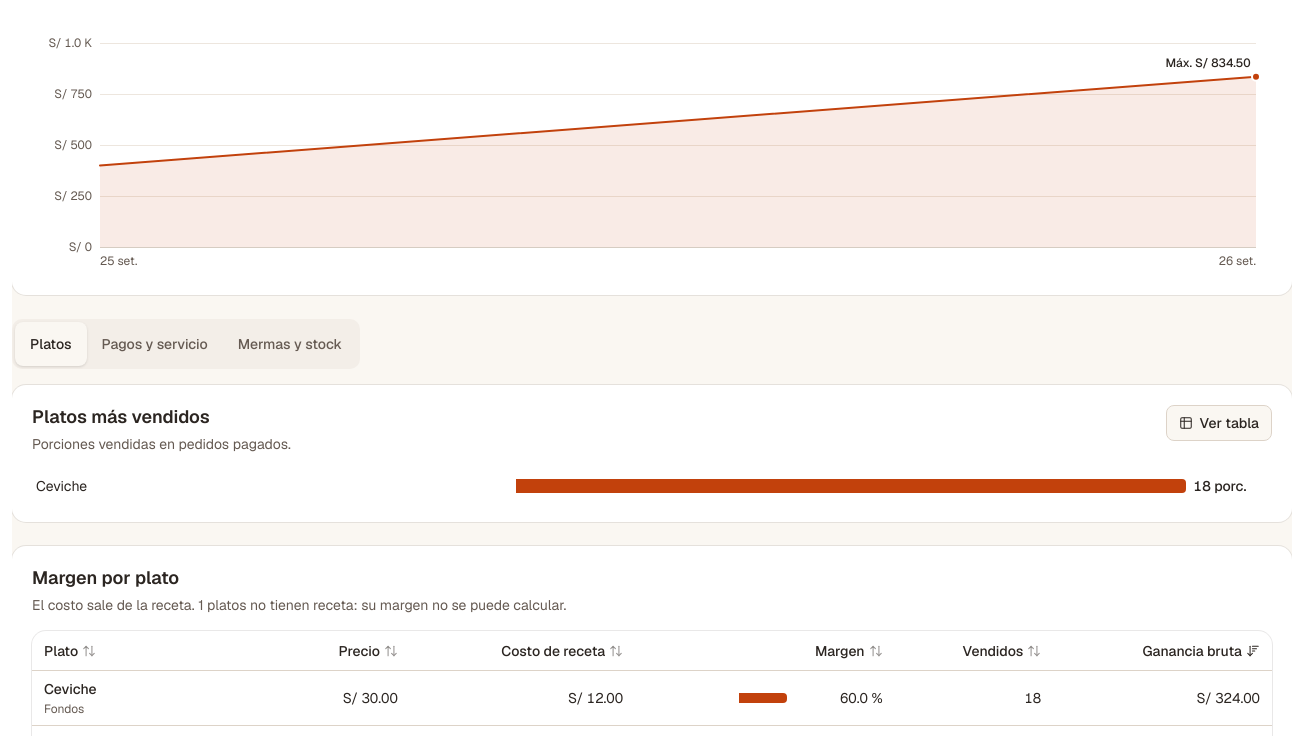
Test: InsightsView: secciones › las mermas dicen su costo y se clasifican con la IA
(page scrolled)
Click the tab "Mermas y stock" at (290, 344), box [223,322,357,366]
(page scrolled)
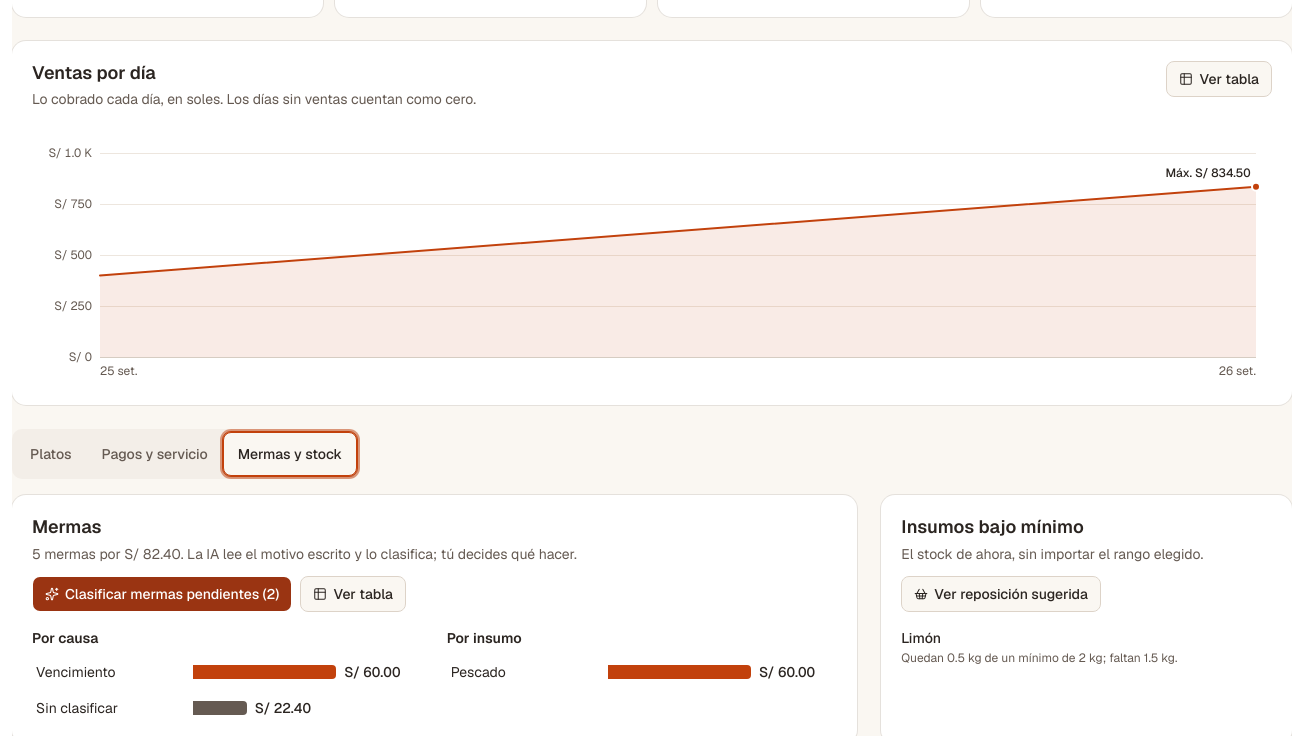
Expected: the text "5 mermas por S/ 82.40" is shown, [32,545,577,563]
Click the button "Clasificar mermas pendientes (2)" at (162, 594), box [32,576,292,612]
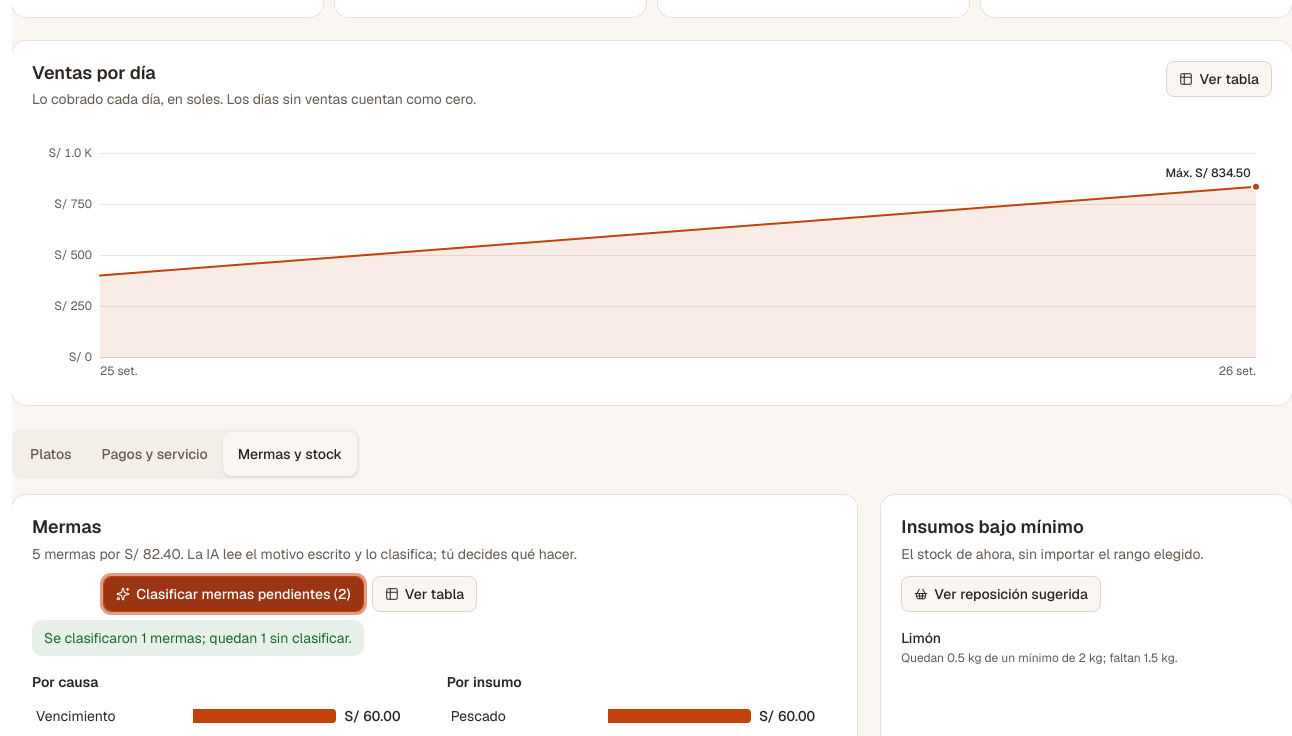
Expected: the text "Se clasificaron 1 mermas; quedan 1 sin clasificar." is shown, [32,620,364,656]
